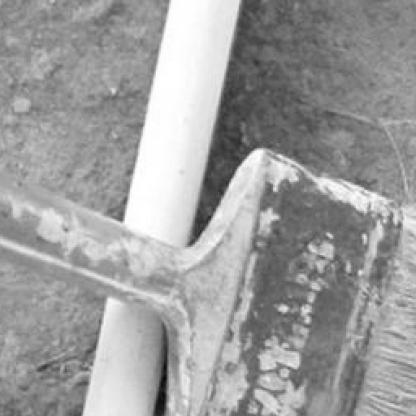PVC: (124, 1, 241, 249), (81, 298, 166, 414)
